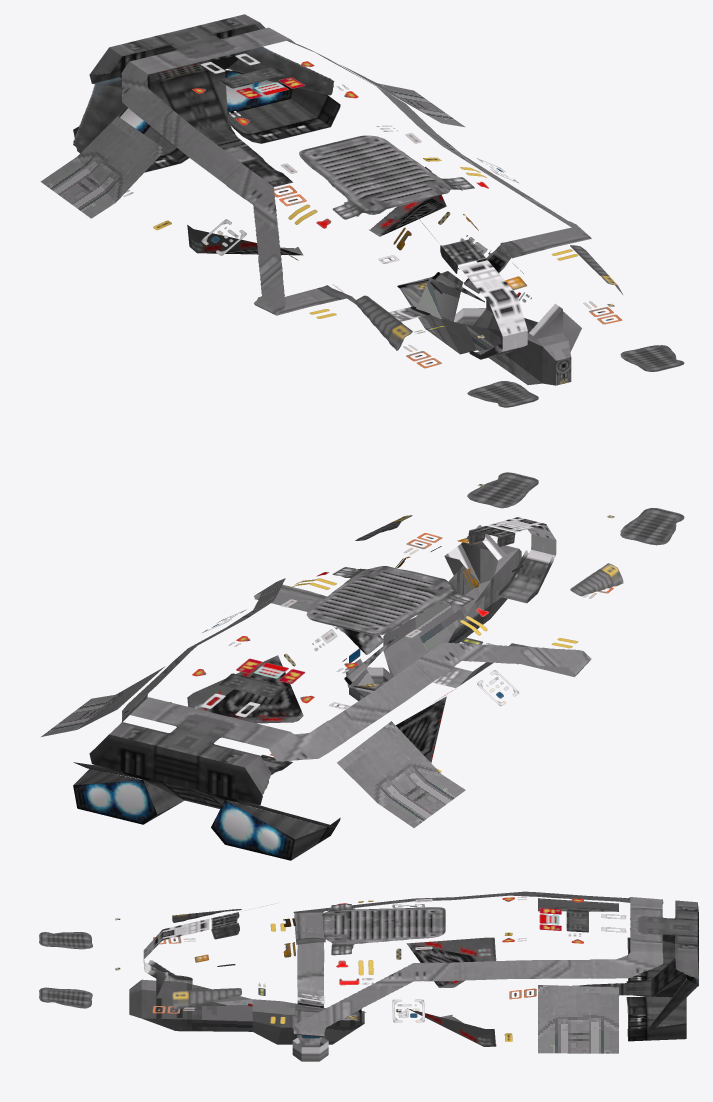
3 renders of one model, top to bottom at view 1: azimuth 30°, elevation 25°; view 2: azimuth 150°, elevation 25°; view 3: azimuth 270°, elevation 25°, orthographic. The views are drawn at different scales.
Parts seen in each view (by area): view 1: Hgn_Interceptor_A, Badge0_MAT, BadgeL_MAT; view 2: Hgn_Interceptor_A, Badge0_MAT, BadgeL_MAT; view 3: Hgn_Interceptor_A, BadgeL_MAT, Badge0_MAT.
Part boxes in pixels (x1,y1,x2,y2): Hgn_Interceptor_A: (73, 14, 684, 407); Badge0_MAT: (40, 64, 465, 218); BadgeL_MAT: (398, 271, 571, 385); Hgn_Interceptor_A: (73, 472, 684, 860); Badge0_MAT: (41, 666, 465, 827); BadgeL_MAT: (345, 543, 521, 697); Hgn_Interceptor_A: (39, 891, 698, 1061); BadgeL_MAT: (129, 979, 364, 1044); Badge0_MAT: (538, 898, 618, 1053).
Bounding box in the file's own units: 10.54 × 3.49 × 17.28.
